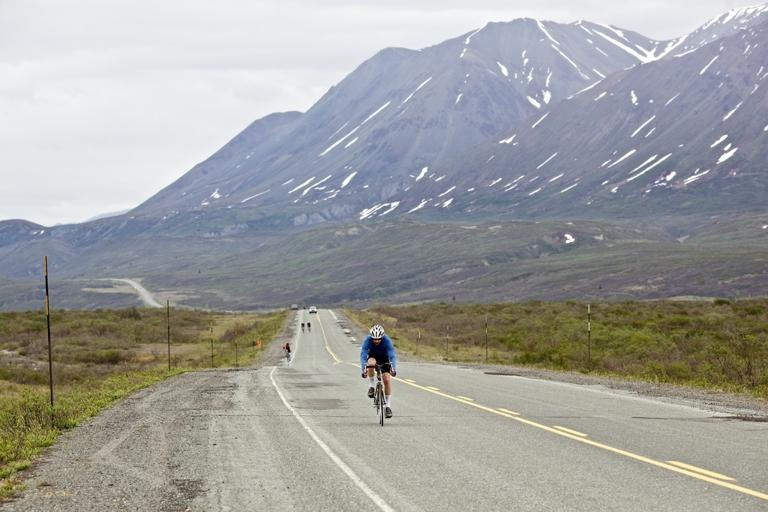non-vehicle: (363, 362, 394, 426), (285, 351, 292, 366)
